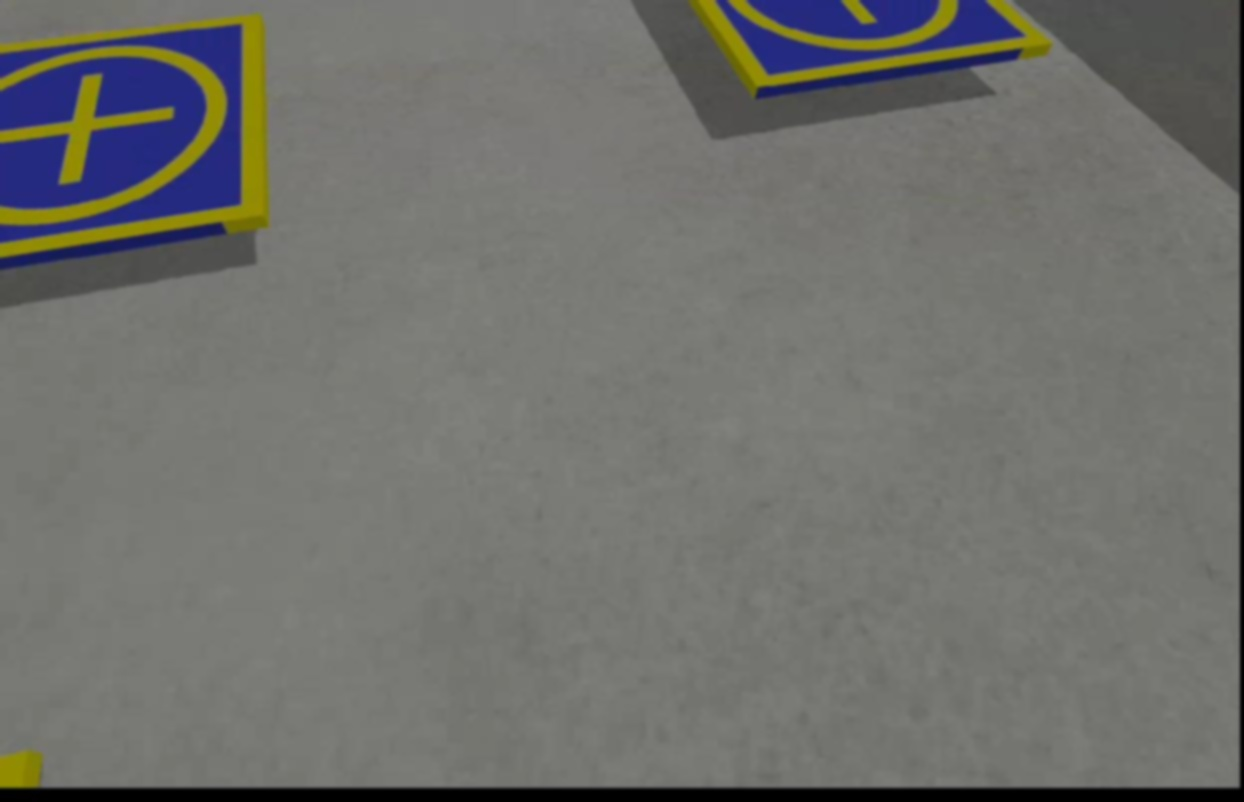small_base: (0, 12, 273, 274), (690, 1, 1053, 102)
